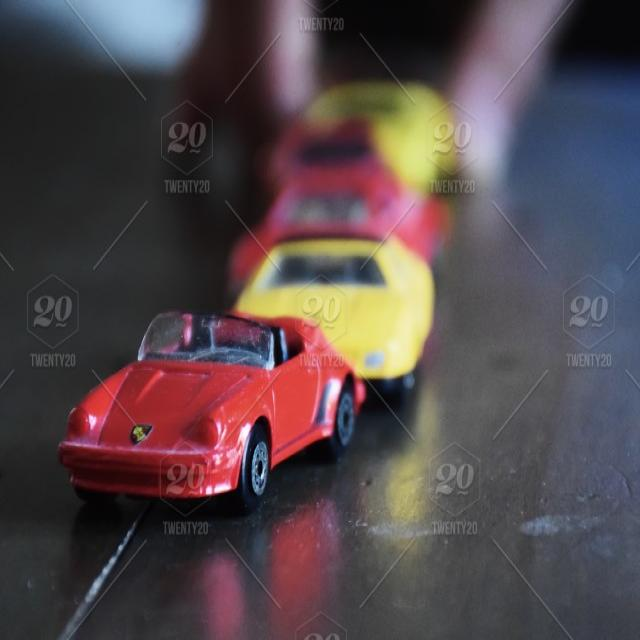Car: (56, 308, 366, 514)
